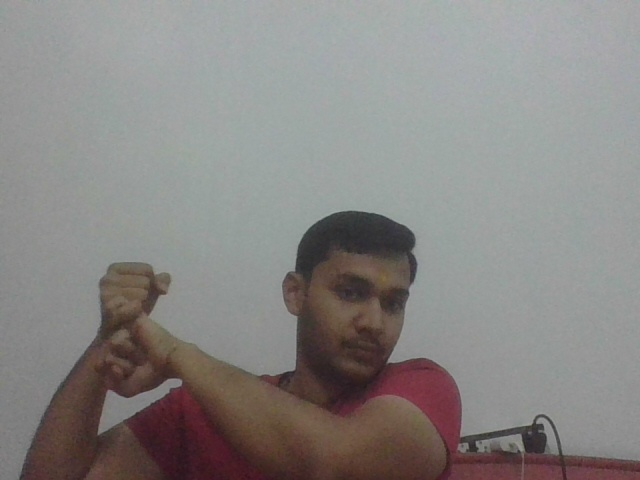S: (90, 260, 179, 398)
